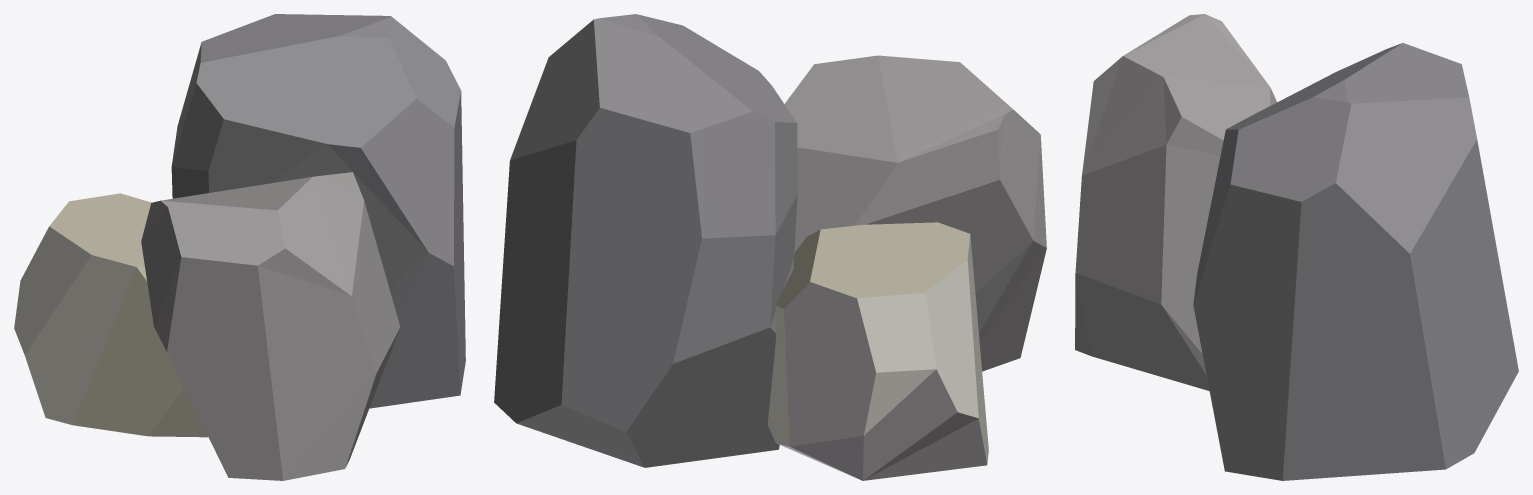
Rendered from Rocks_Round_l_03.fbx.
3 renders of one model, left to right at view 1: azimuth 30°, elevation 25°; view 2: azimuth 150°, elevation 25°; view 3: azimuth 270°, elevation 25°, orthographic. The views are drawn at different scales.
Parts seen in each view (by area): view 1: Rocks_Round_l_03; view 2: Rocks_Round_l_03; view 3: Rocks_Round_l_03.
Boxes of the visible parts, box(x1,y1,x2,y2) form: Rocks_Round_l_03: box(14, 14, 465, 480); Rocks_Round_l_03: box(494, 14, 1046, 480); Rocks_Round_l_03: box(1075, 14, 1518, 480).
Size of the model in its own units: 274 by 225 by 245.
